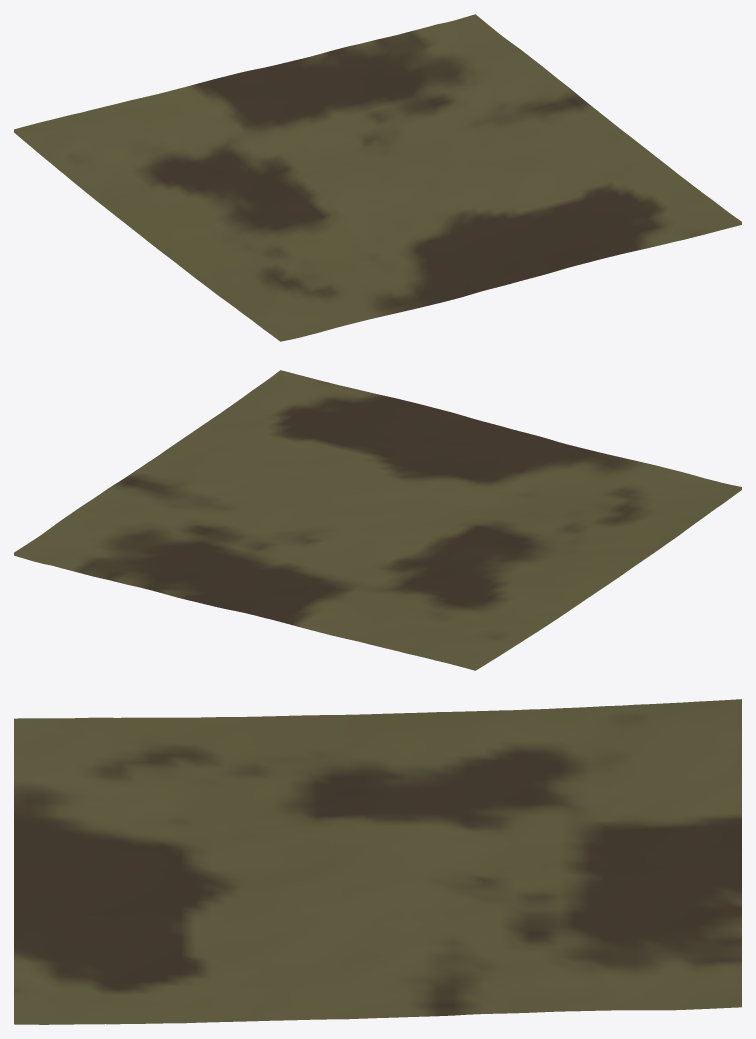
Rendered from land_m_11_08.glb.
The picture shows the model from 3 angles, top to bottom: view 1: azimuth 30°, elevation 25°; view 2: azimuth 150°, elevation 25°; view 3: azimuth 270°, elevation 25°; orthographic projection. The views are drawn at different scales.
Visible parts, largest first — view 1: land_m_11_08; view 2: land_m_11_08; view 3: land_m_11_08.
Boxes of the visible parts, x1,y1,x2,y2 form: land_m_11_08: [14, 14, 741, 341]; land_m_11_08: [14, 370, 741, 670]; land_m_11_08: [14, 699, 741, 1024].
Size of the model in its own units: 960 by 40.62 by 960.
